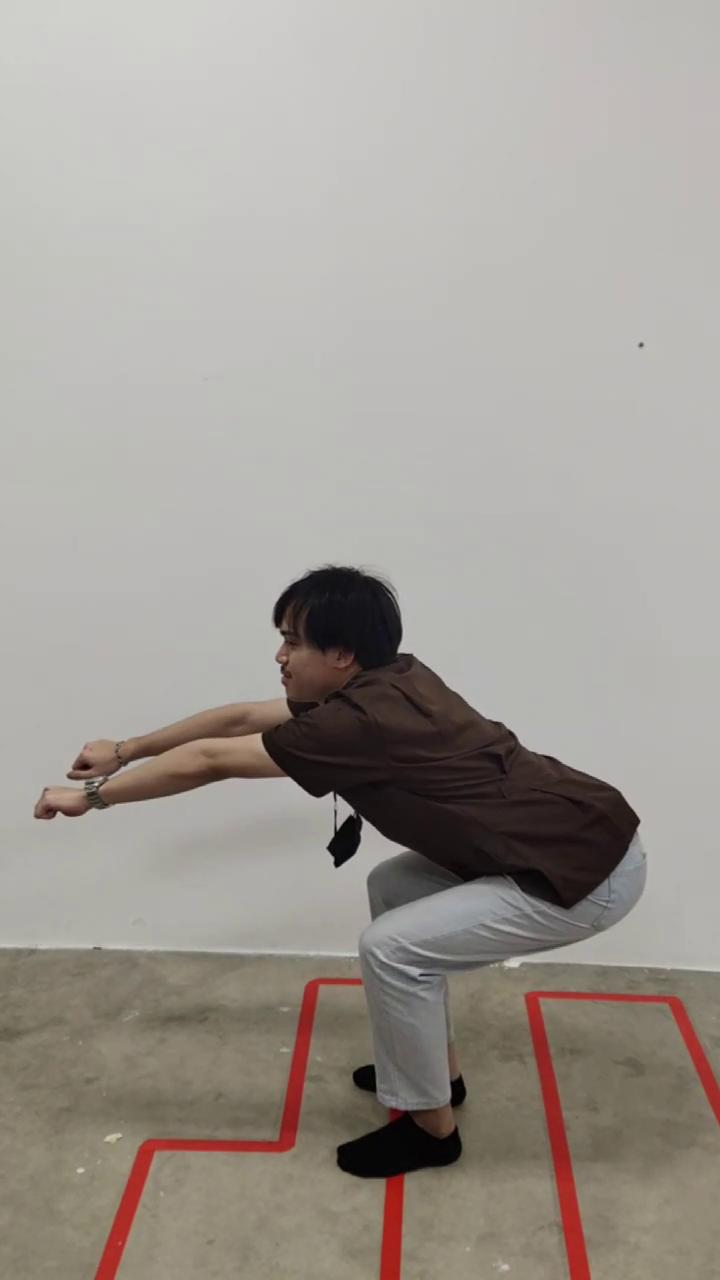squat down: (35, 565, 645, 1178)
